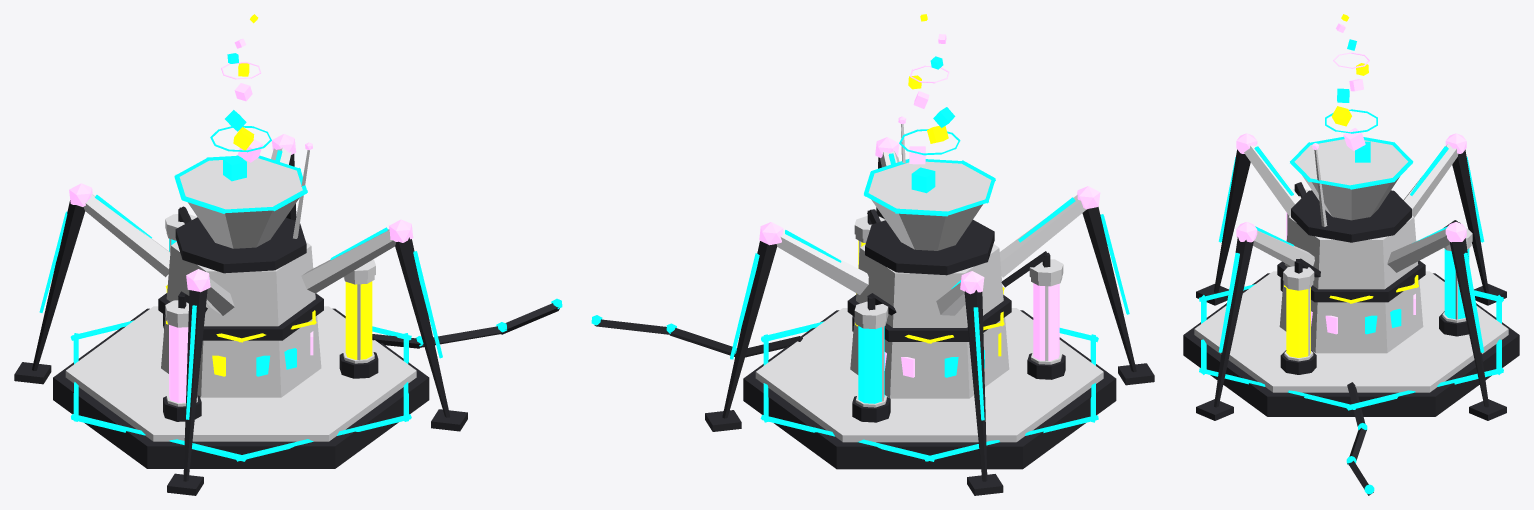
The model's file is DataSiphon.fbx.
3 views of the same model, side by side, from view 1: azimuth 30°, elevation 25°; view 2: azimuth 150°, elevation 25°; view 3: azimuth 270°, elevation 25° (orthographic). The views are drawn at different scales.
Parts seen in each view (by area): view 1: Siphon_BaseTop, Siphon_Body, Siphon_Base, Siphon_Funnel, Siphon_HeadPlate, Siphon_BaseGlow, Siphon_Anchor3_Lower, Siphon_Anchor1_Upper, Siphon_Anchor3_Upper, Siphon_Anchor1_Lower, Siphon_CapsuleFluid2, Siphon_Anchor2_Lower (+9 smaller); view 2: Siphon_BaseTop, Siphon_Body, Siphon_Base, Siphon_Funnel, Siphon_HeadPlate, Siphon_BaseGlow, Siphon_Anchor0_Lower, Siphon_Anchor2_Lower, Siphon_Anchor1_Lower, Siphon_Anchor0_Upper, Siphon_CapsuleFluid0, Siphon_CapsuleFluid1 (+11 smaller); view 3: Siphon_BaseTop, Siphon_Body, Siphon_Base, Siphon_Funnel, Siphon_HeadPlate, Siphon_BaseGlow, Siphon_Band, Siphon_CapsuleFluid2, Siphon_Anchor3_Lower, Siphon_Anchor0_Lower, Siphon_Anchor2_Lower, Siphon_Anchor1_Lower (+15 smaller).
Boxes of the visible parts, bbox=[...] form: Siphon_BaseTop: bbox=[65, 306, 416, 441]; Siphon_Body: bbox=[161, 241, 321, 397]; Siphon_Base: bbox=[53, 308, 429, 468]; Siphon_Funnel: bbox=[179, 158, 302, 248]; Siphon_HeadPlate: bbox=[175, 217, 306, 273]; Siphon_BaseGlow: bbox=[70, 320, 411, 461]; Siphon_Anchor3_Lower: bbox=[395, 237, 449, 417]; Siphon_Anchor1_Upper: bbox=[83, 194, 170, 277]; Siphon_Anchor3_Upper: bbox=[301, 229, 395, 293]; Siphon_Anchor1_Lower: bbox=[32, 200, 85, 370]; Siphon_CapsuleFluid2: bbox=[345, 281, 372, 359]; Siphon_Anchor2_Lower: bbox=[183, 289, 207, 481]; Siphon_BaseTop: bbox=[755, 308, 1103, 442]; Siphon_Body: bbox=[850, 244, 1009, 398]; Siphon_Base: bbox=[743, 310, 1116, 469]; Siphon_Funnel: bbox=[868, 161, 991, 250]; Siphon_HeadPlate: bbox=[865, 220, 994, 275]; Siphon_BaseGlow: bbox=[760, 321, 1098, 461]; Siphon_Anchor0_Lower: bbox=[722, 241, 776, 418]; Siphon_Anchor2_Lower: bbox=[1082, 207, 1136, 371]; Siphon_Anchor1_Lower: bbox=[964, 290, 987, 481]; Siphon_Anchor0_Upper: bbox=[776, 230, 868, 294]; Siphon_CapsuleFluid0: bbox=[858, 326, 884, 403]; Siphon_CapsuleFluid1: bbox=[1033, 283, 1059, 360]; Siphon_BaseTop: bbox=[1194, 271, 1508, 392]; Siphon_Body: bbox=[1279, 215, 1423, 353]; Siphon_Base: bbox=[1183, 273, 1519, 416]; Siphon_Funnel: bbox=[1294, 139, 1408, 220]; Siphon_HeadPlate: bbox=[1291, 190, 1411, 242]; Siphon_BaseGlow: bbox=[1199, 284, 1503, 410]; Siphon_Band: bbox=[1277, 260, 1425, 302]; Siphon_CapsuleFluid2: bbox=[1286, 287, 1310, 357]; Siphon_Anchor3_Lower: bbox=[1214, 237, 1253, 407]; Siphon_Anchor0_Lower: bbox=[1450, 238, 1488, 407]; Siphon_Anchor2_Lower: bbox=[1214, 149, 1250, 292]; Siphon_Anchor1_Lower: bbox=[1452, 149, 1488, 292].
Bounding box in the file's own units: 2.3 × 1.7 × 1.5.
